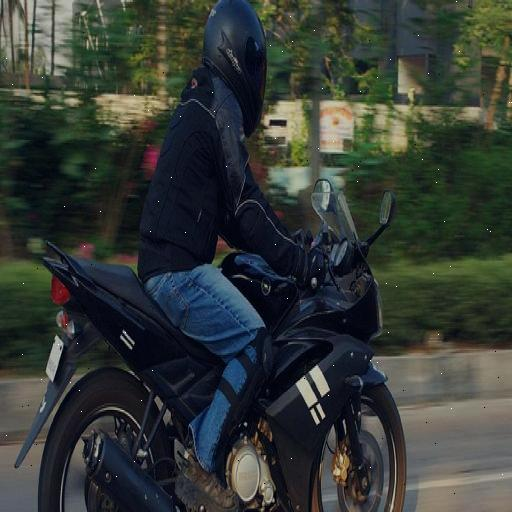helmet: (129, 0, 404, 512)
